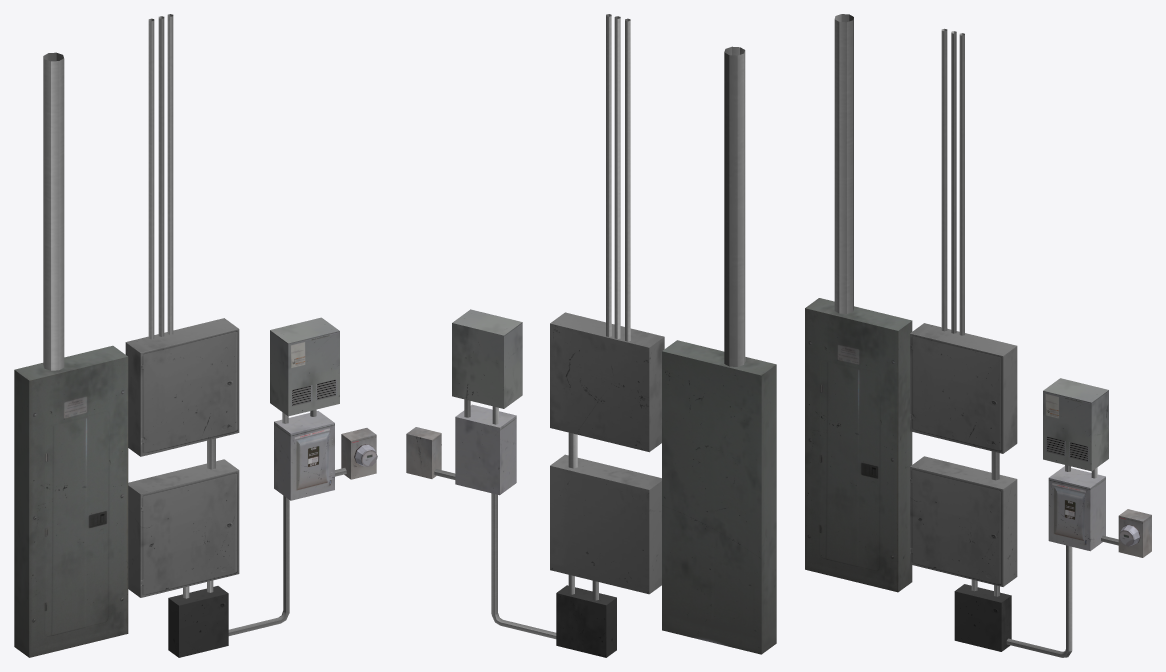
Rendered from Electrical Panel.glb.
3 renders of one model, left to right at view 1: azimuth 30°, elevation 25°; view 2: azimuth 150°, elevation 25°; view 3: azimuth 330°, elevation 25°, orthographic. The views are drawn at different scales.
Visible parts, largest first — view 1: electric_panels01; view 2: electric_panels01; view 3: electric_panels01.
Part boxes in pixels (x1,y1,x2,y2): electric_panels01: (14,14,377,657); electric_panels01: (406,14,776,657); electric_panels01: (805,14,1151,657).
Size of the model in its own units: 1.43 by 2.46 by 0.1288.
1 material, 1 textured.
